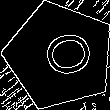O_W: (28, 28, 91, 84)
